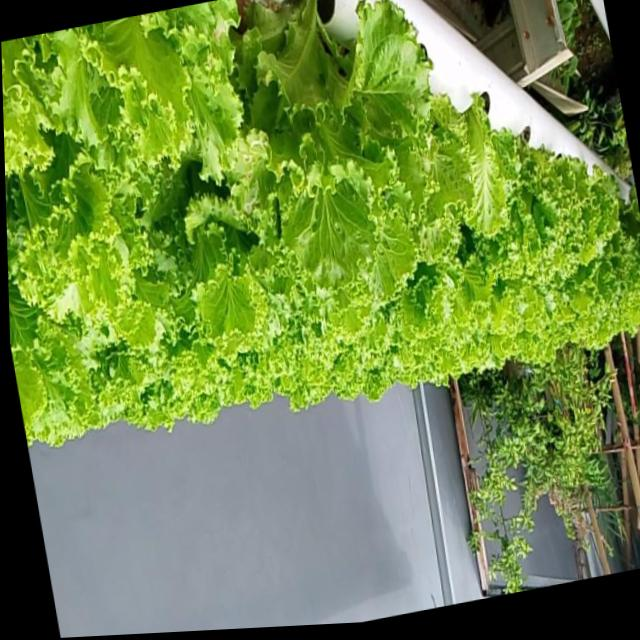Mature: (1, 0, 640, 462), (252, 0, 451, 295), (483, 119, 639, 326)
